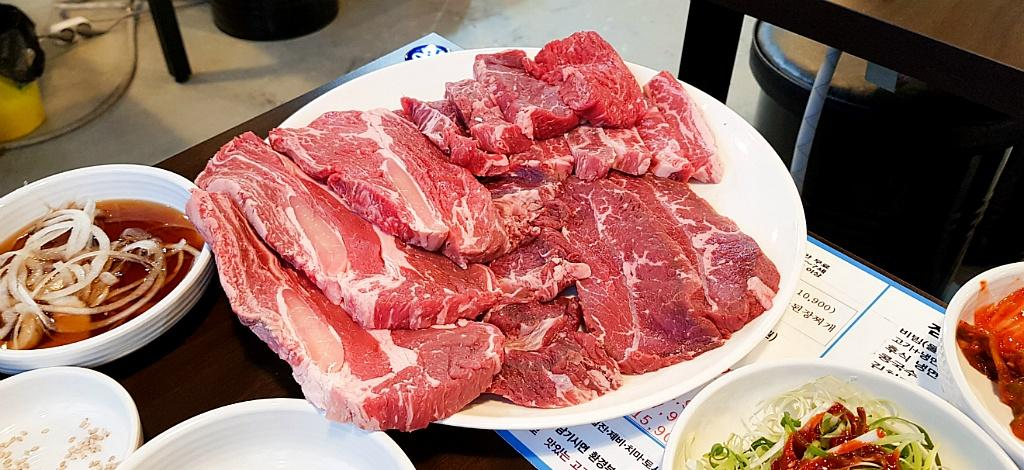beef: (379, 91, 736, 302), (806, 135, 1024, 280), (766, 43, 1024, 125)
